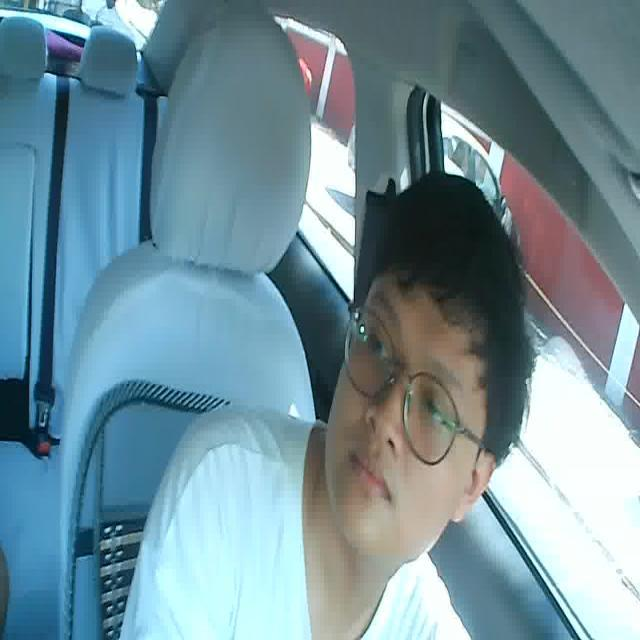Eye-Open: (416, 390, 456, 433), (356, 325, 396, 367)
Inattentive: (323, 168, 535, 549)
Normal: (344, 448, 394, 506)
